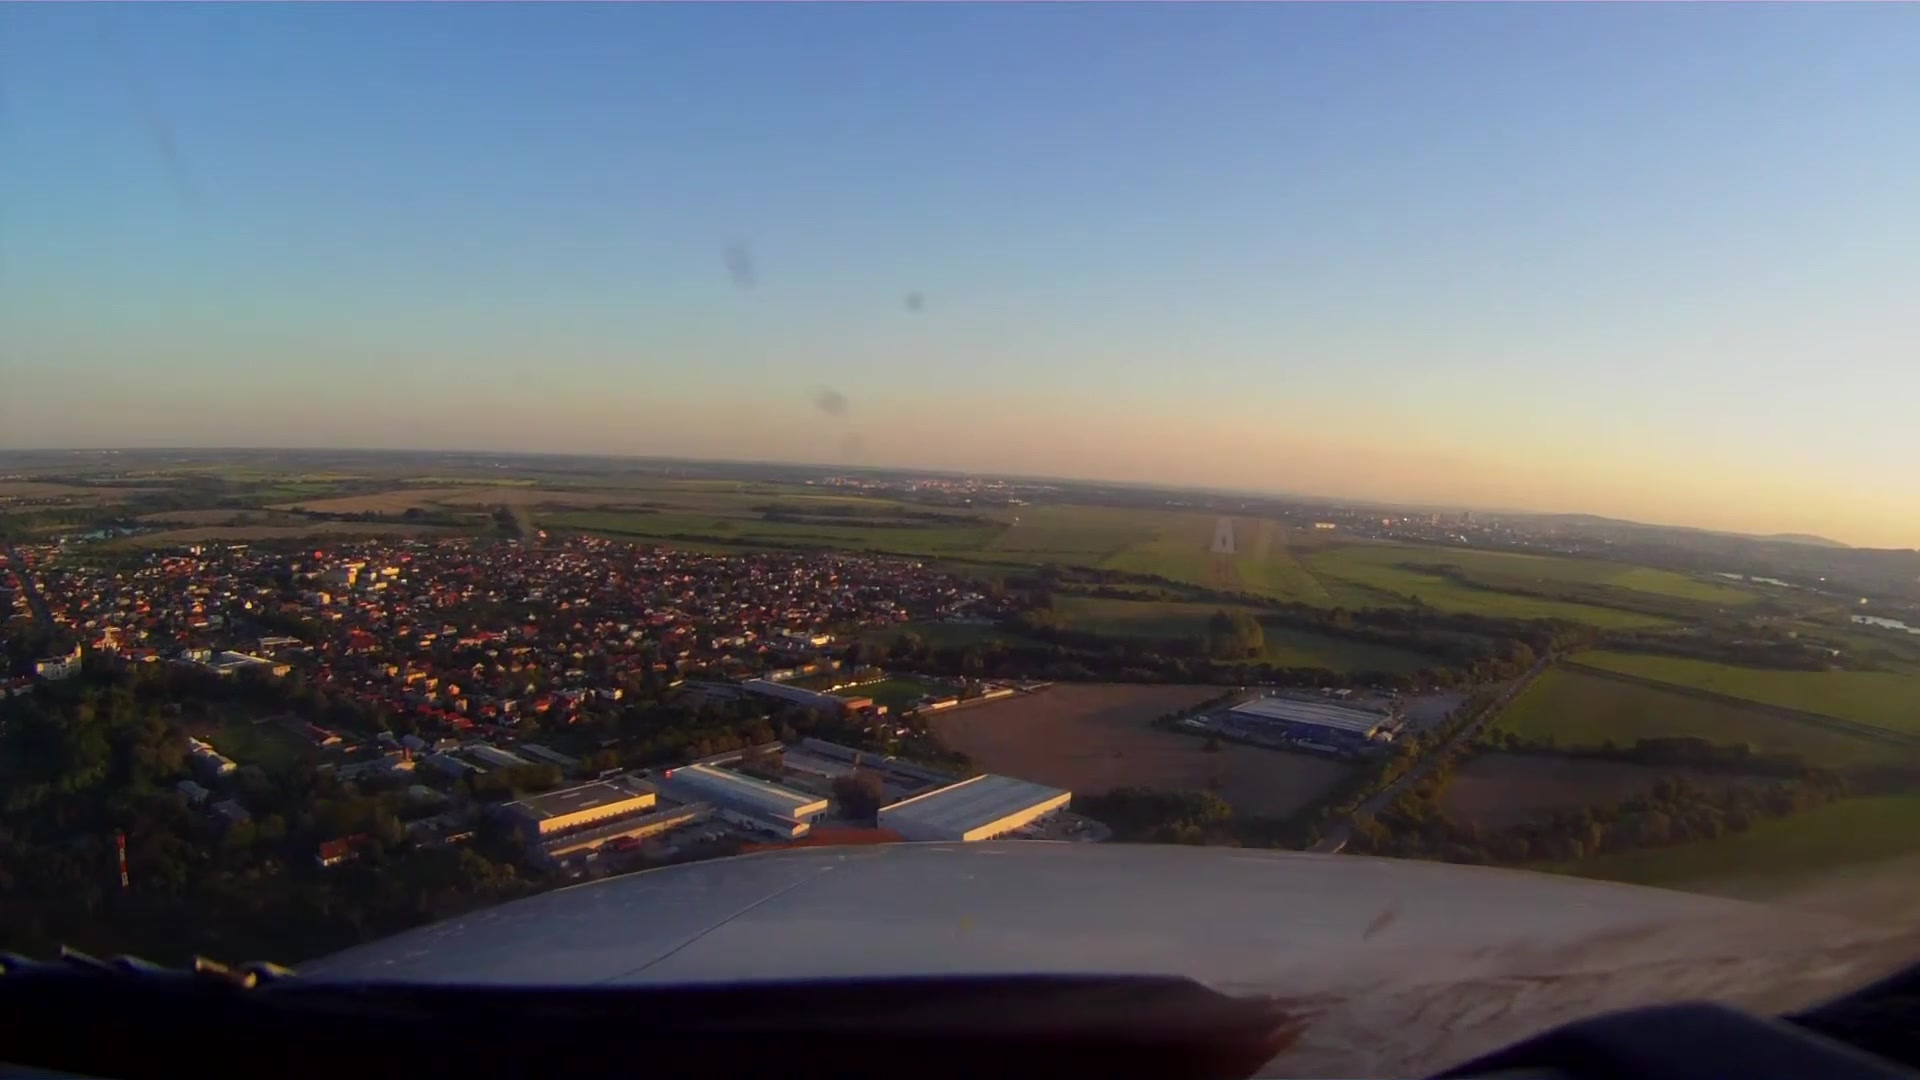runway: (1203, 513, 1241, 555)
